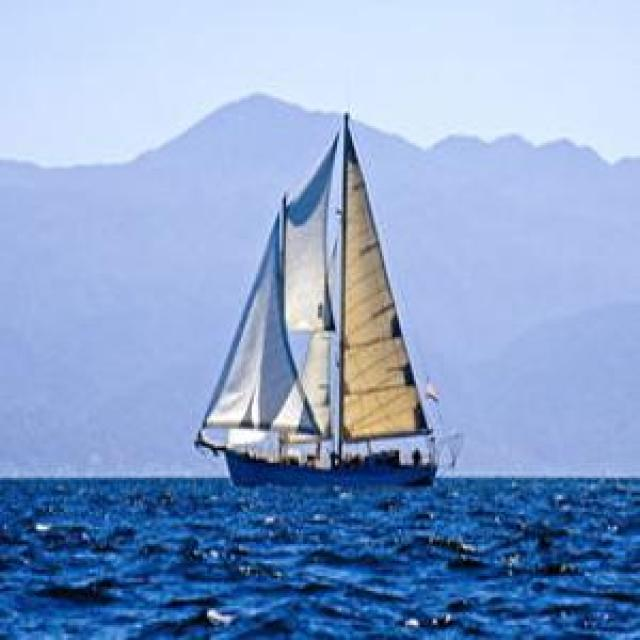sailboat: (200, 107, 450, 487)
